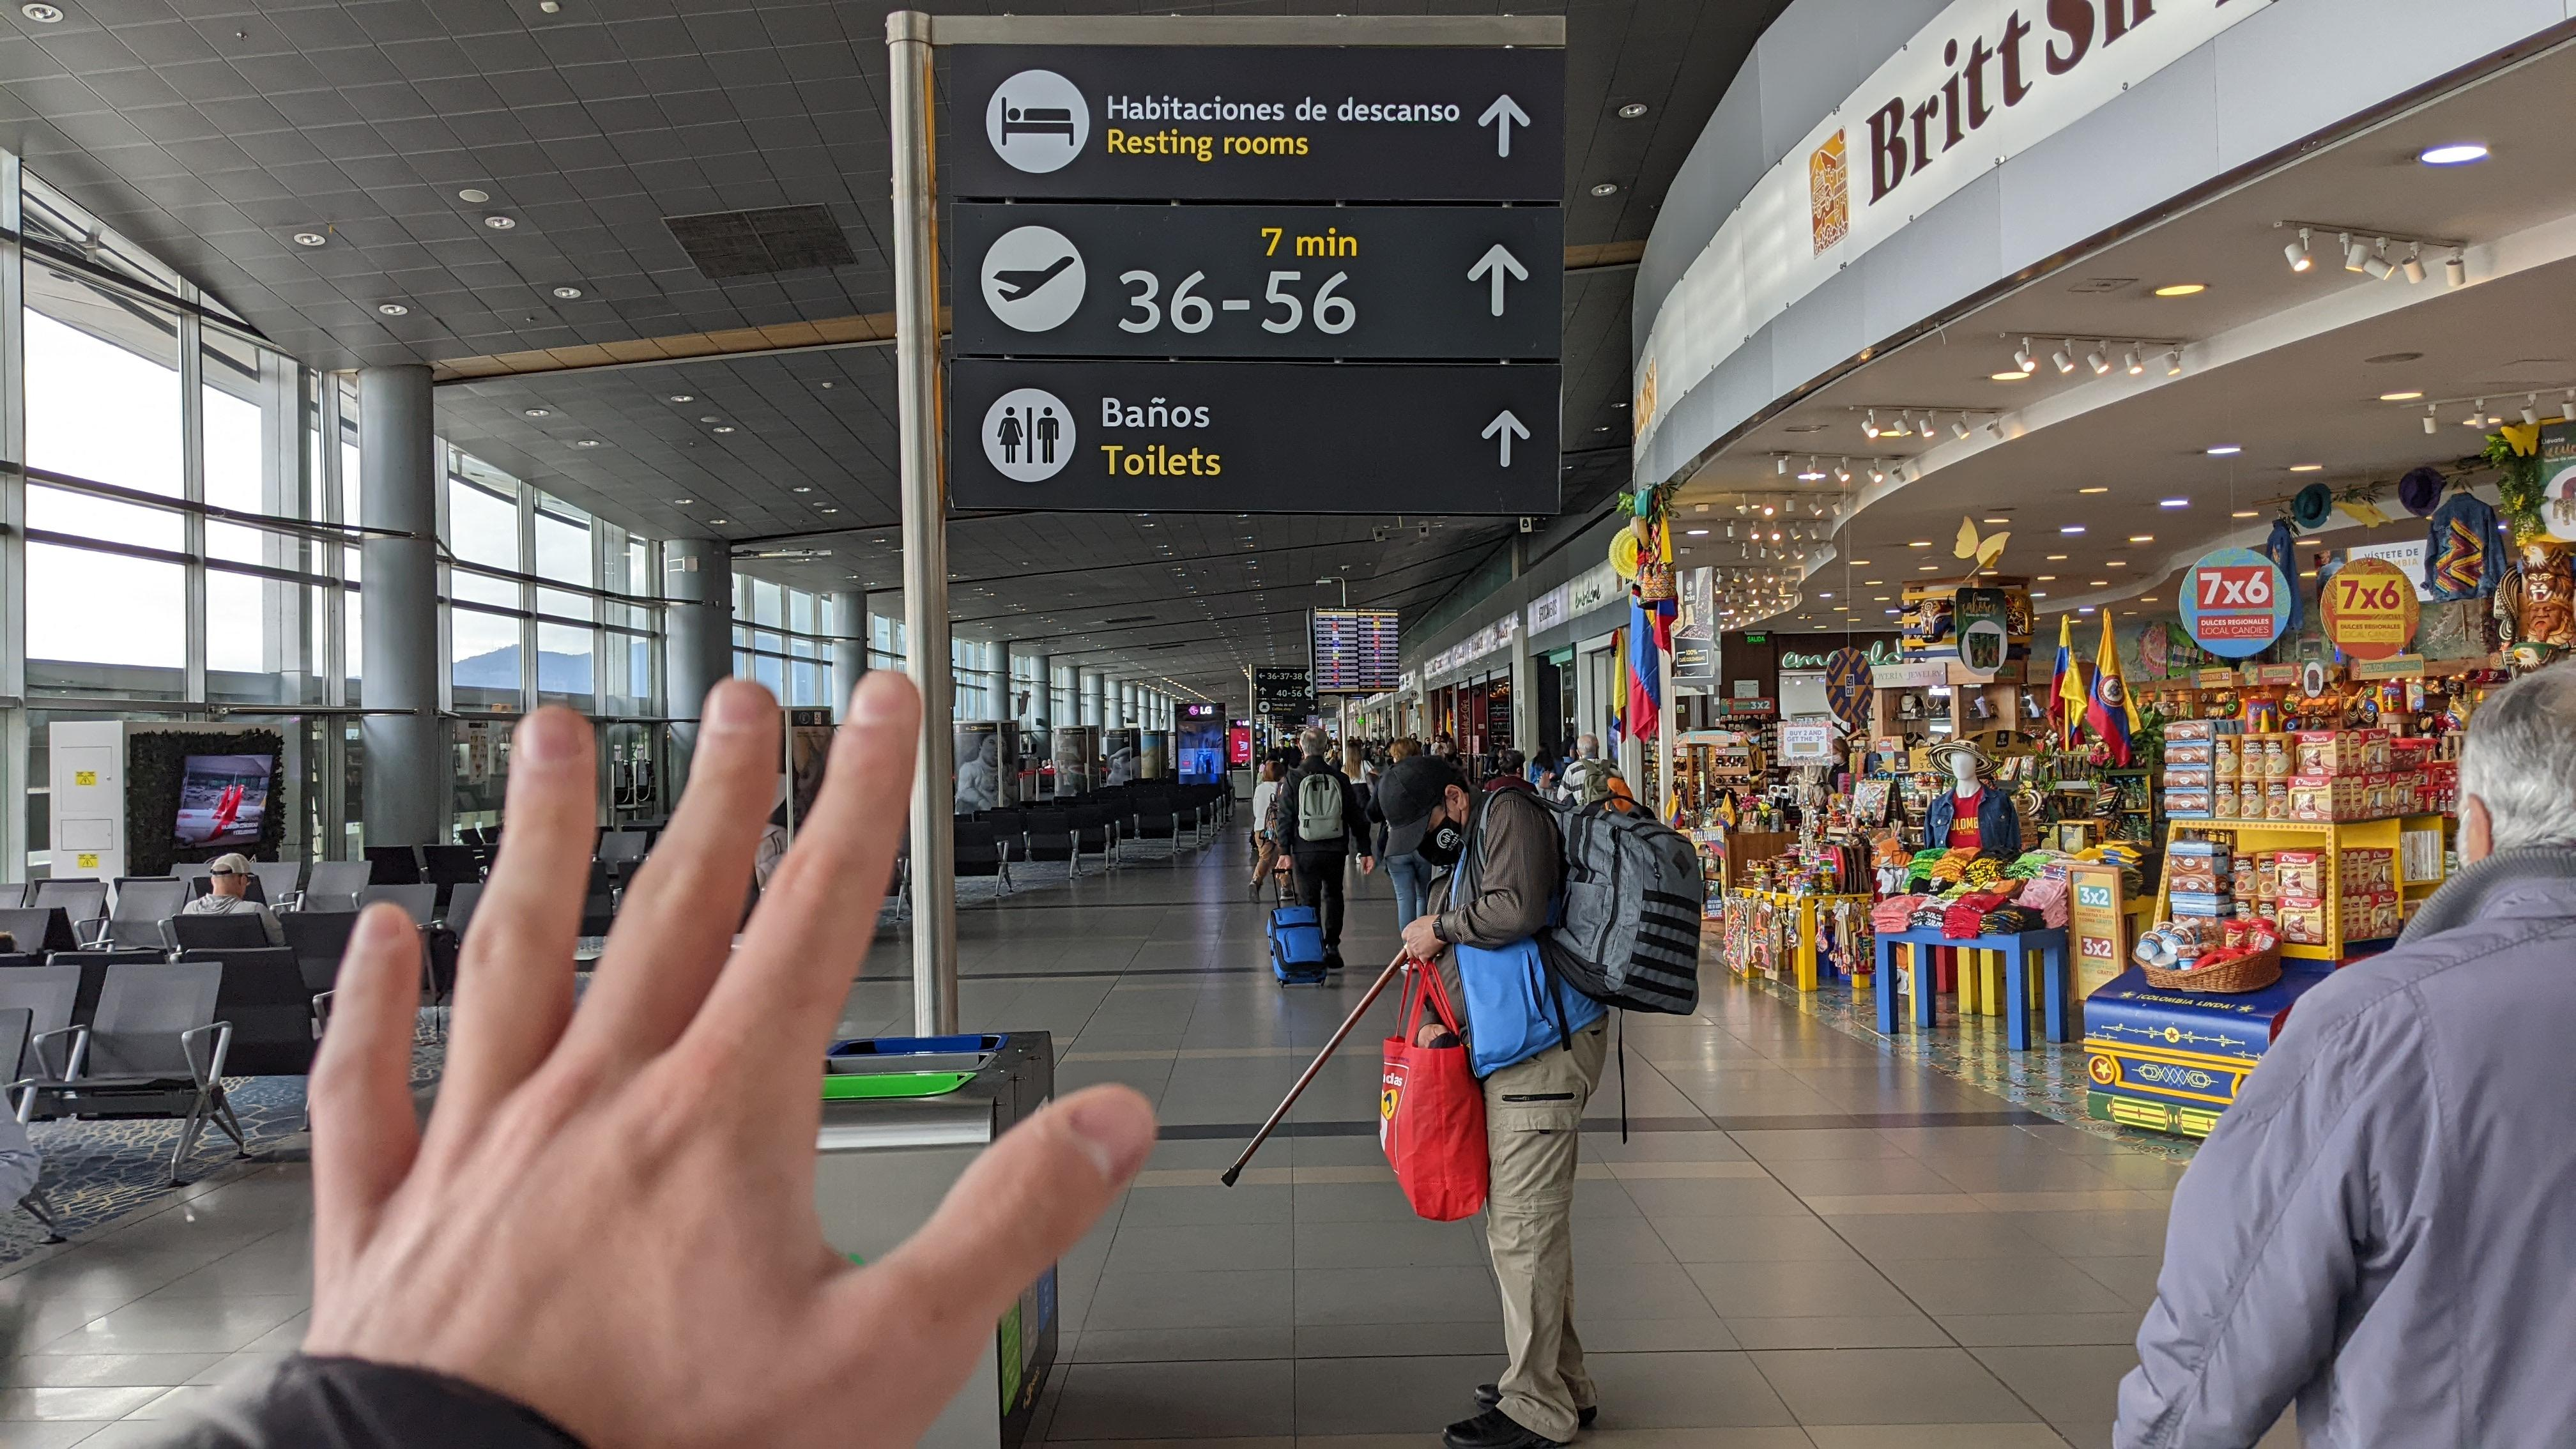airplane symbol: (993, 253, 1077, 303)
bathrooms: (994, 403, 1062, 469)
left arrow: (1258, 672, 1265, 679)
right arrow: (1307, 702, 1316, 711)
up arrow: (1467, 241, 1534, 320), (1476, 92, 1534, 161), (1479, 410, 1532, 471), (1260, 686, 1267, 695)
